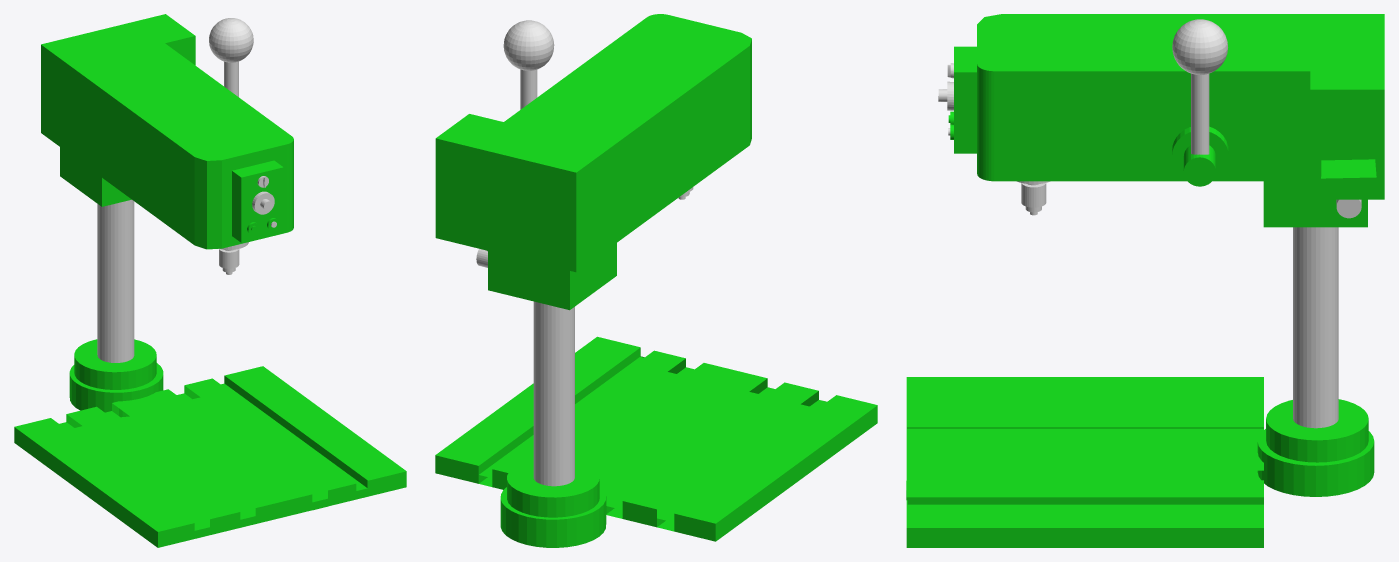
3 views of the same model, side by side, from view 1: azimuth 30°, elevation 25°; view 2: azimuth 150°, elevation 25°; view 3: azimuth 270°, elevation 25° (orthographic). The views are drawn at different scales.
Parts seen in each view (by area): view 1: Cube; view 2: Cube; view 3: Cube.
Part boxes in pixels (<box>): Cube: <box>14,14,406,547</box>; Cube: <box>435,14,877,547</box>; Cube: <box>906,14,1384,547</box>.
Size of the model in its own units: 200 by 304 by 268.
